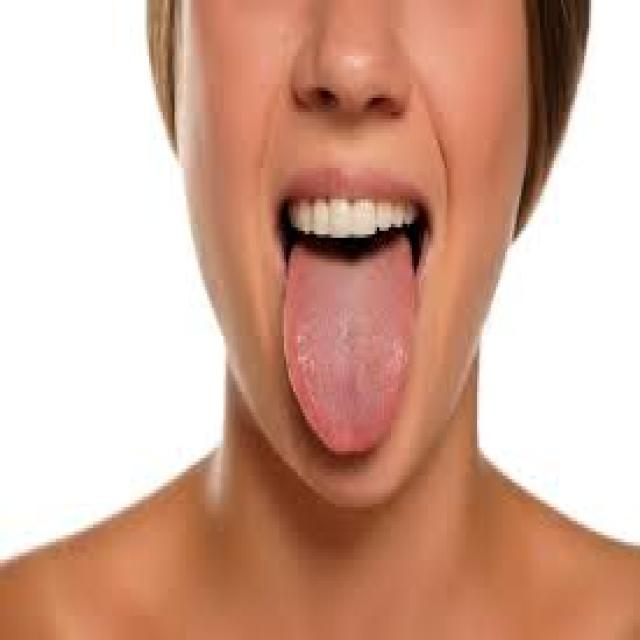normal_tongue: (243, 185, 464, 530)
